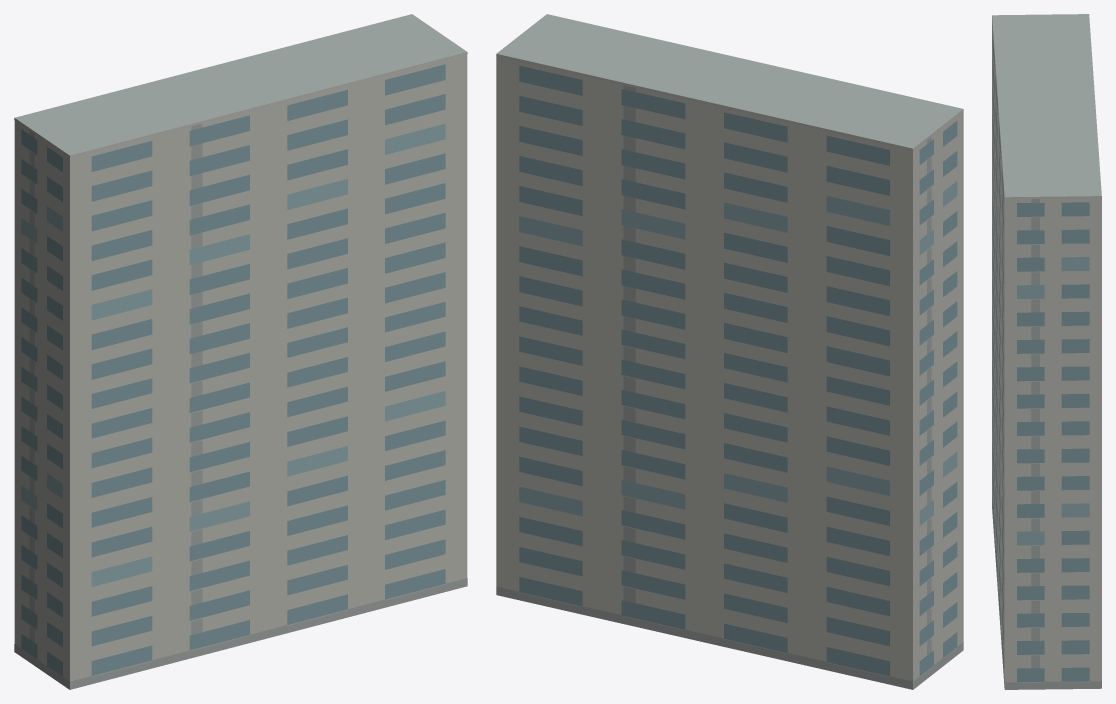
File: residential-94378b55-bf84-45d9-80aa-10c998db924e.glb
The picture shows the model from 3 angles, left to right: view 1: azimuth 30°, elevation 25°; view 2: azimuth 150°, elevation 25°; view 3: azimuth 270°, elevation 25°; orthographic projection. The views are drawn at different scales.
Visible parts, largest first — view 1: residential-94378b55-bf84-45d9-80aa-10c998db924e.tmp; view 2: residential-94378b55-bf84-45d9-80aa-10c998db924e.tmp; view 3: residential-94378b55-bf84-45d9-80aa-10c998db924e.tmp.
Part boxes in pixels (x1=…): residential-94378b55-bf84-45d9-80aa-10c998db924e.tmp: x1=14, y1=14, x2=467, y2=689; residential-94378b55-bf84-45d9-80aa-10c998db924e.tmp: x1=496, y1=14, x2=963, y2=689; residential-94378b55-bf84-45d9-80aa-10c998db924e.tmp: x1=992, y1=14, x2=1101, y2=689.
Bounding box in the file's own units: 42.28 × 53 × 10.71.
